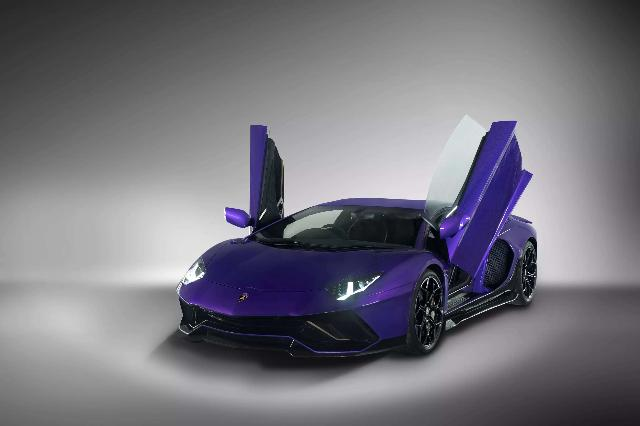lamborghini: (175, 113, 538, 362)
